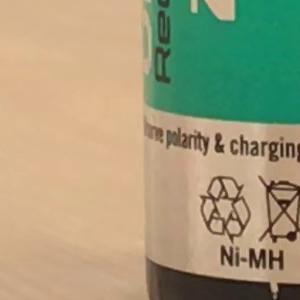NI-MH: (211, 239, 294, 276)
